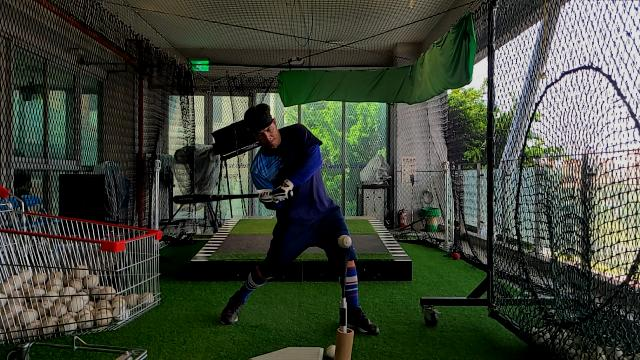baseball bat: (173, 191, 261, 205)
sports ball: (338, 234, 352, 248)
